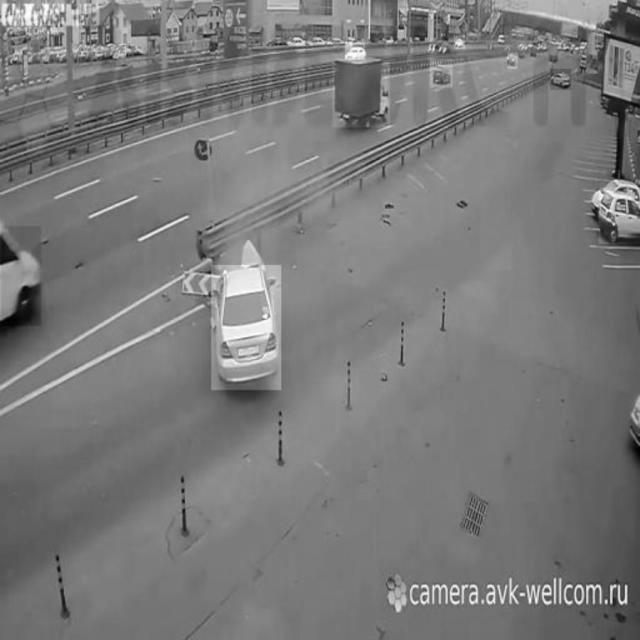vehicle: (211, 265, 281, 391), (2, 226, 42, 326), (333, 63, 390, 127), (599, 188, 640, 244), (431, 59, 453, 87), (550, 69, 570, 89), (345, 43, 365, 60), (507, 53, 517, 69), (454, 35, 464, 49)
